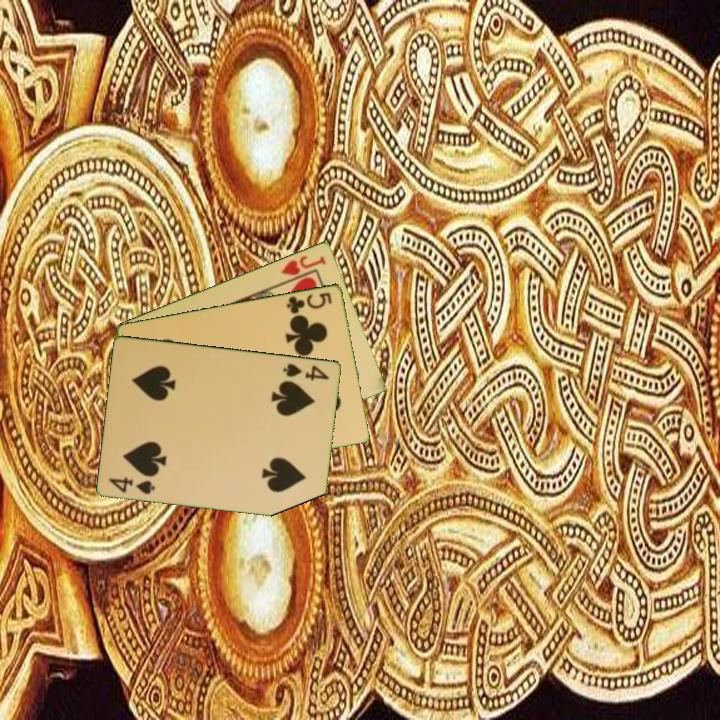4s: (105, 473, 158, 497), (280, 360, 332, 384)
5c: (283, 288, 335, 316)
Jh: (277, 251, 329, 286)
